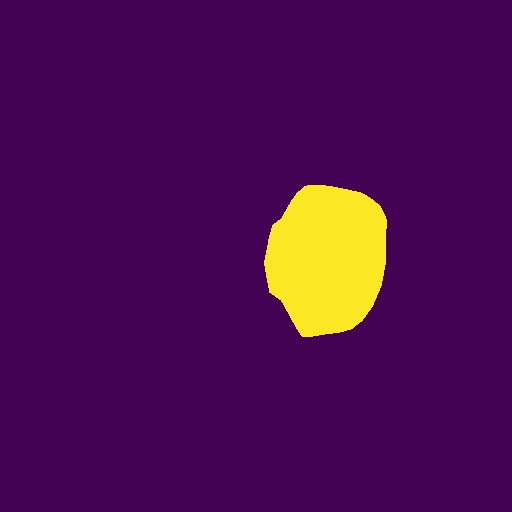Gliomia_tumour: (264, 185, 387, 337)
